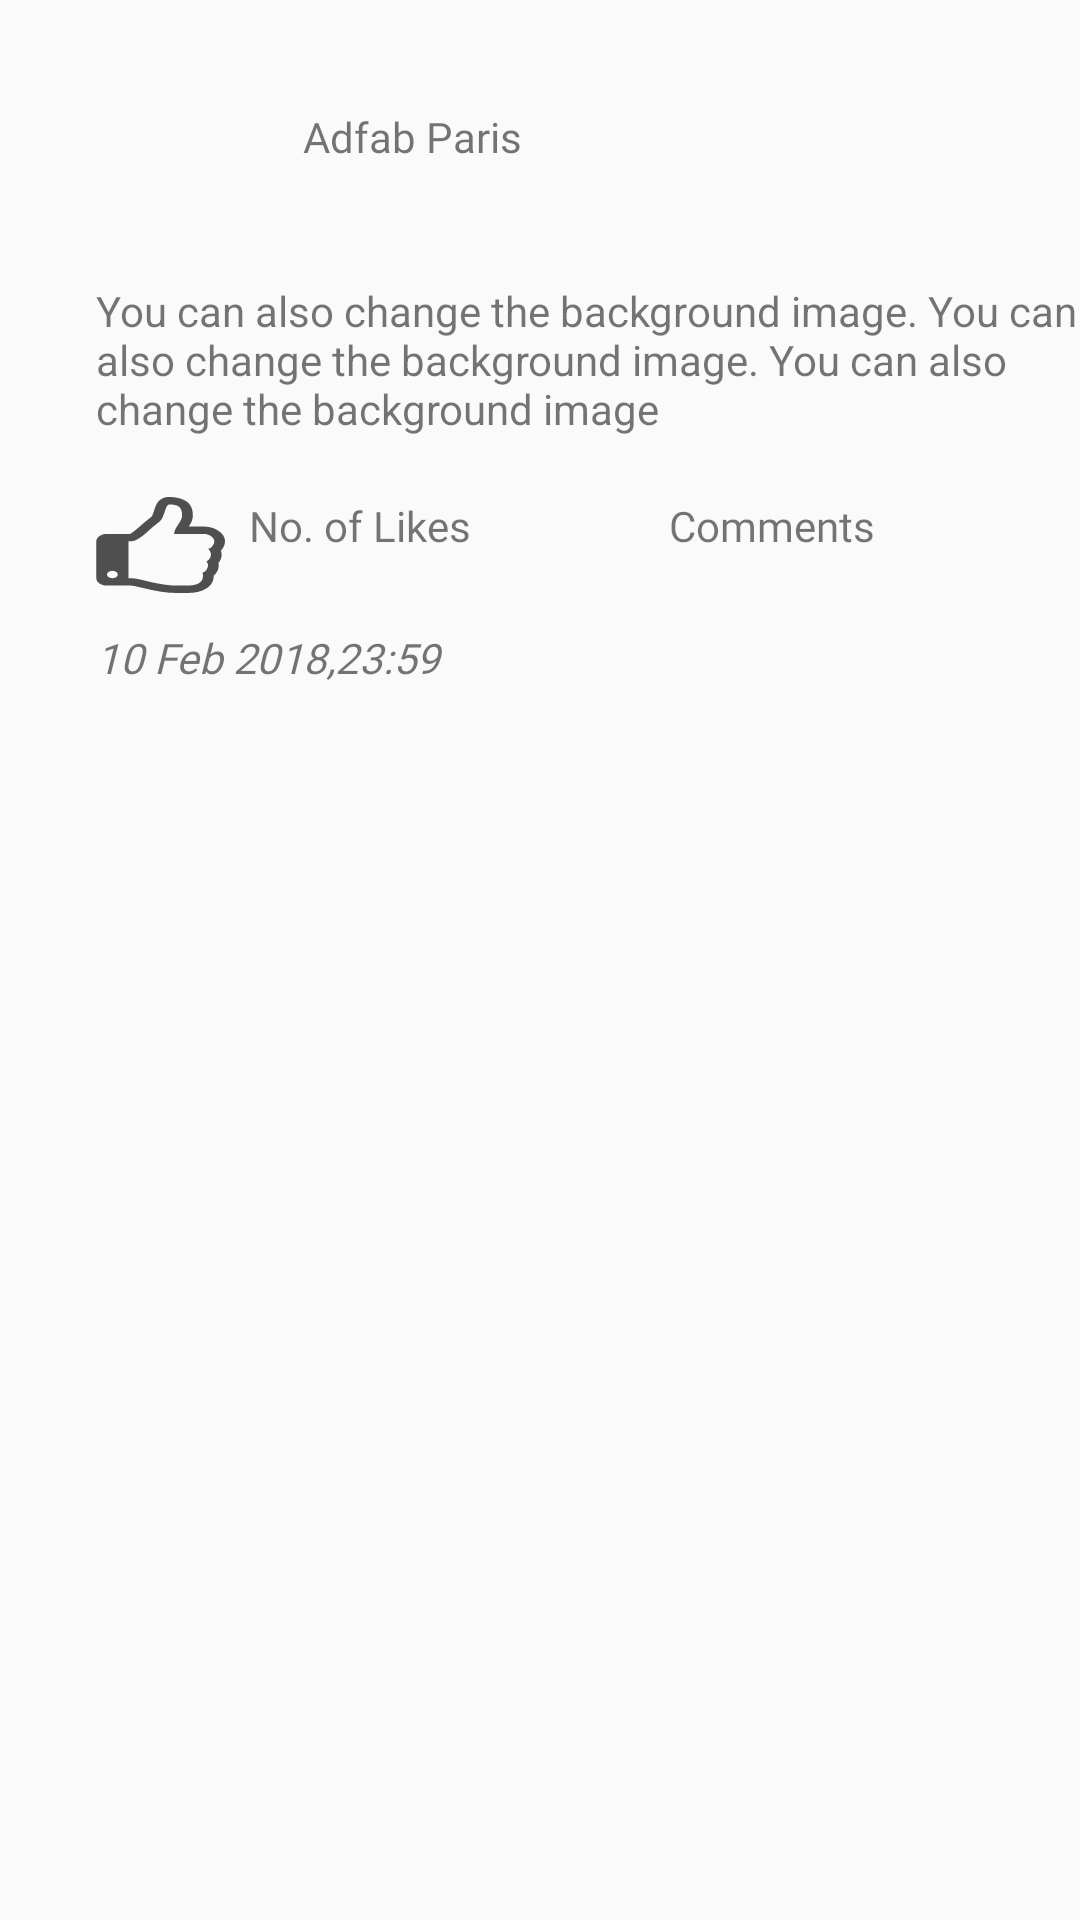

Where to tap for icons on this 1080 × 1920 app screen, as (x=x, y=y):
likeoff: (x=160, y=545)
